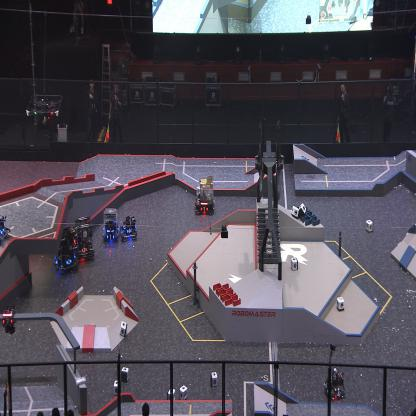car: (51, 225, 78, 276), (74, 214, 96, 262), (194, 173, 216, 214), (324, 367, 346, 400), (101, 207, 120, 243), (119, 216, 137, 244), (0, 210, 11, 246)
